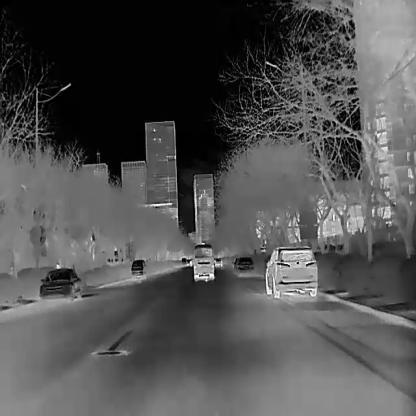car: (263, 245, 317, 298), (38, 267, 80, 300), (191, 243, 215, 281), (234, 256, 254, 275), (130, 258, 146, 279), (213, 256, 222, 267)
